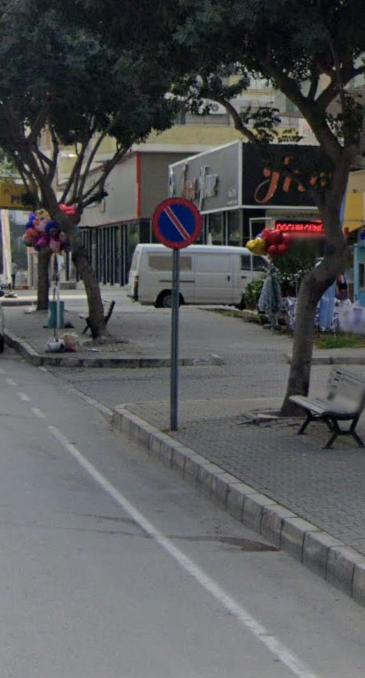nopark: (155, 199, 200, 249)
